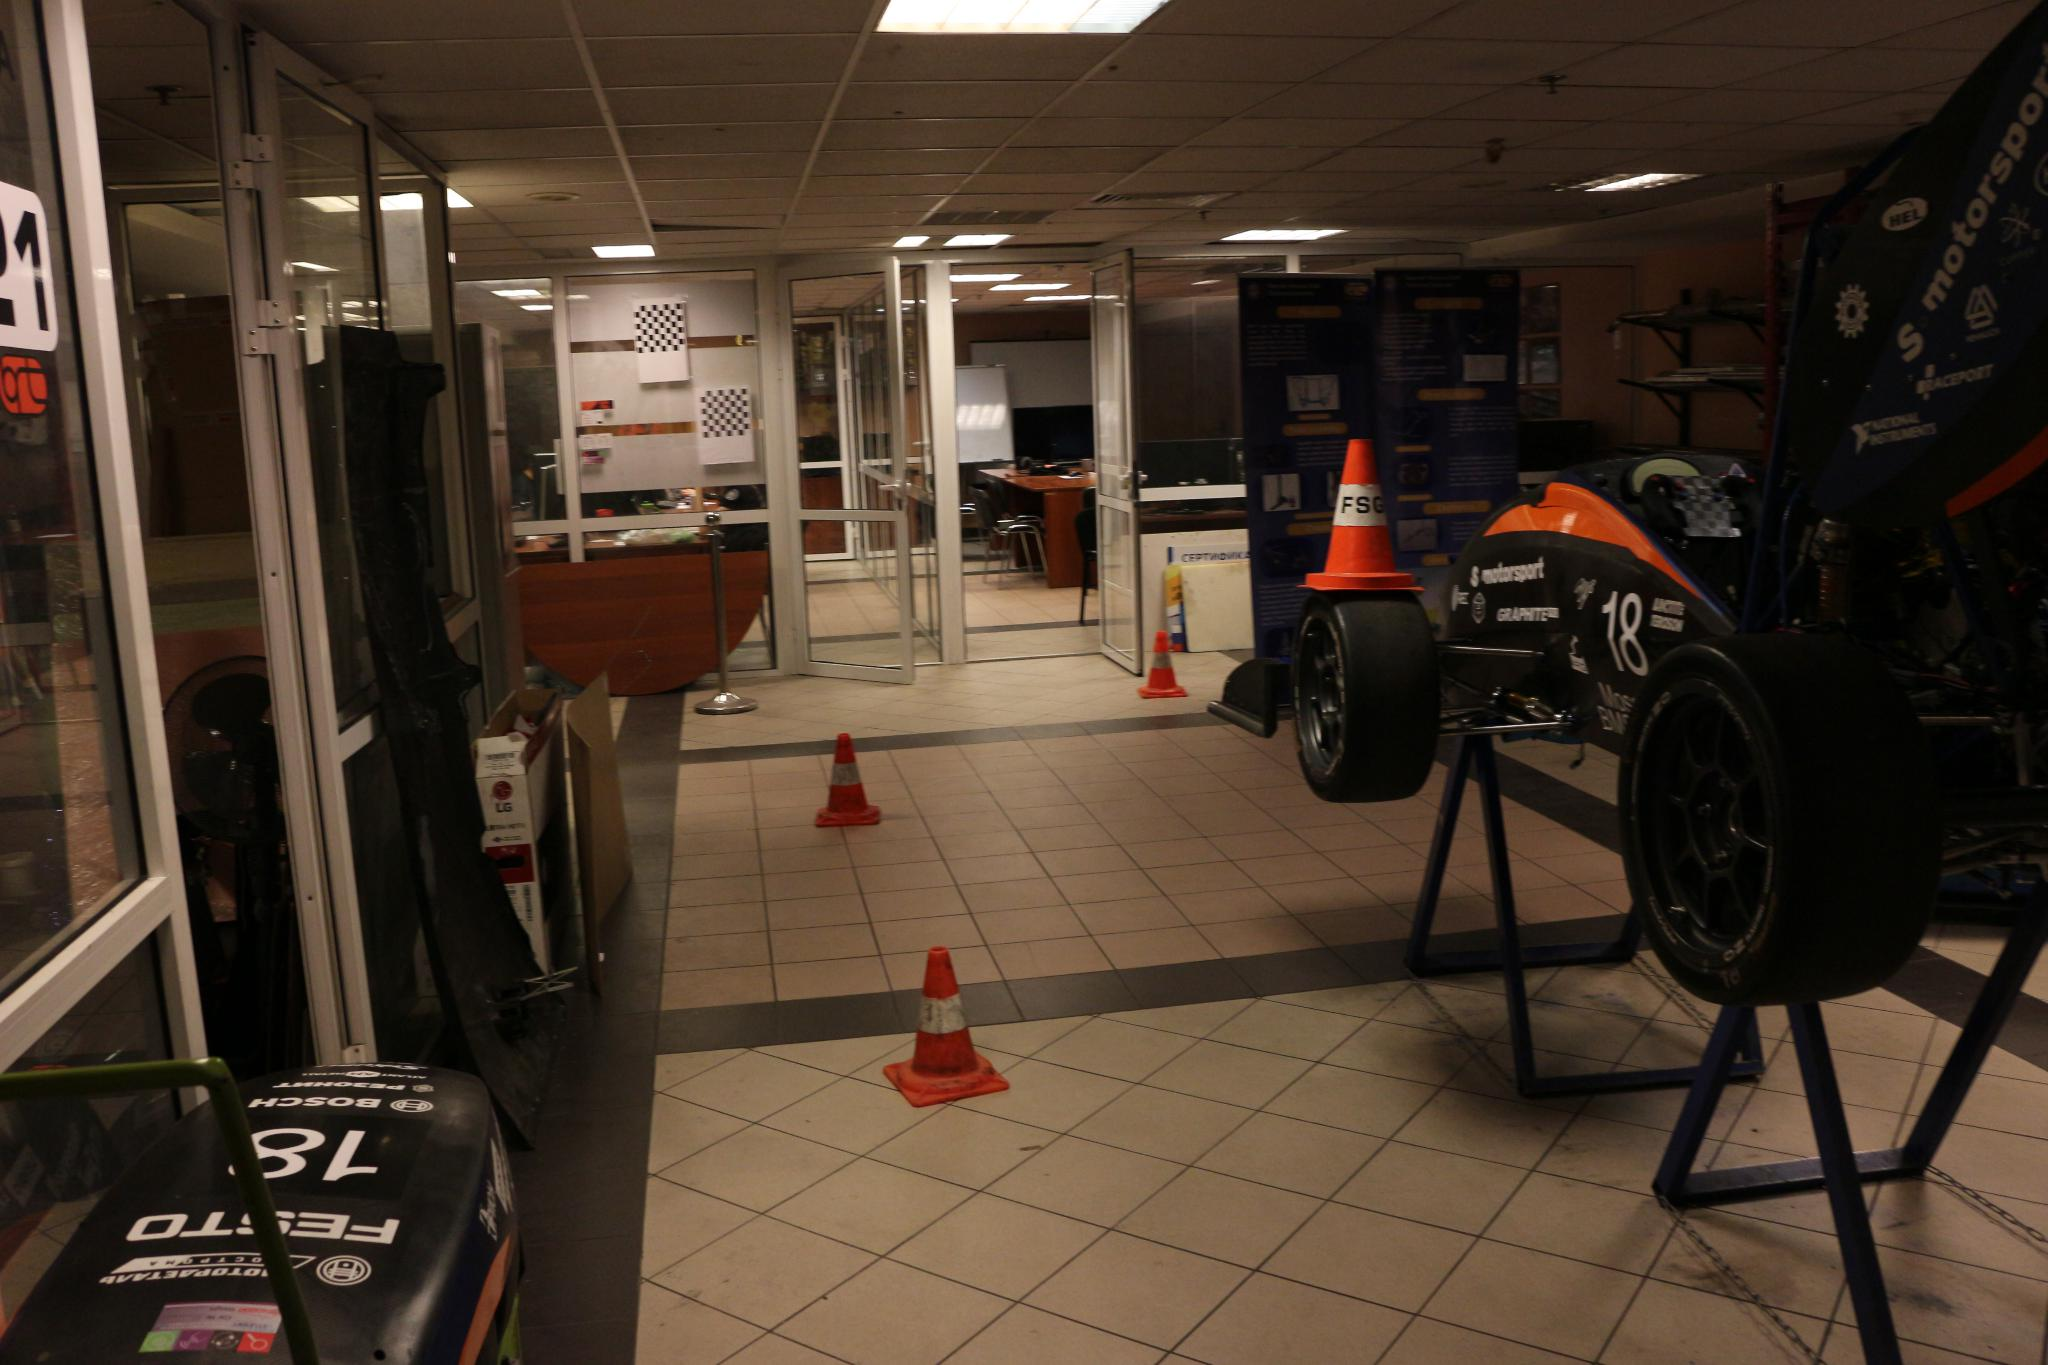Orange_Cone: (874, 943, 1016, 1114), (1293, 437, 1425, 597), (807, 728, 889, 832), (1133, 628, 1188, 701)
